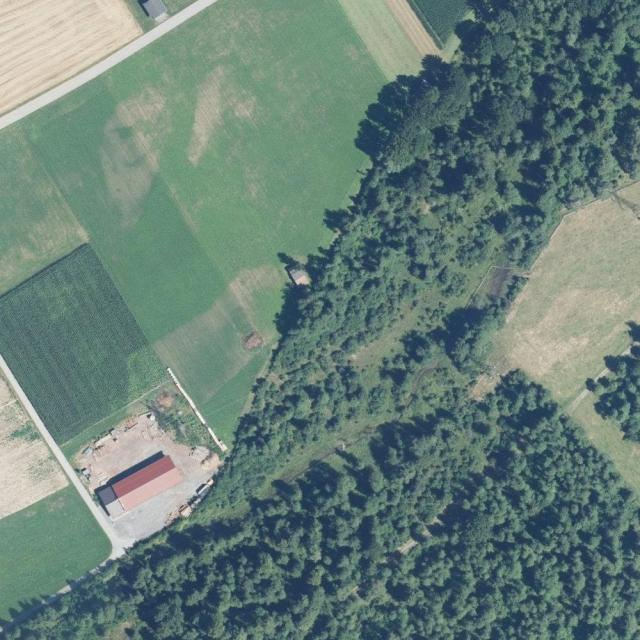building: (93, 448, 184, 521), (284, 258, 312, 290)
dryland: (108, 450, 221, 553), (0, 375, 69, 518), (76, 408, 167, 464), (104, 438, 222, 478), (104, 424, 189, 470), (74, 445, 121, 492), (96, 451, 121, 467)
greenland: (2, 1, 640, 639), (0, 241, 171, 447), (586, 321, 640, 442)
